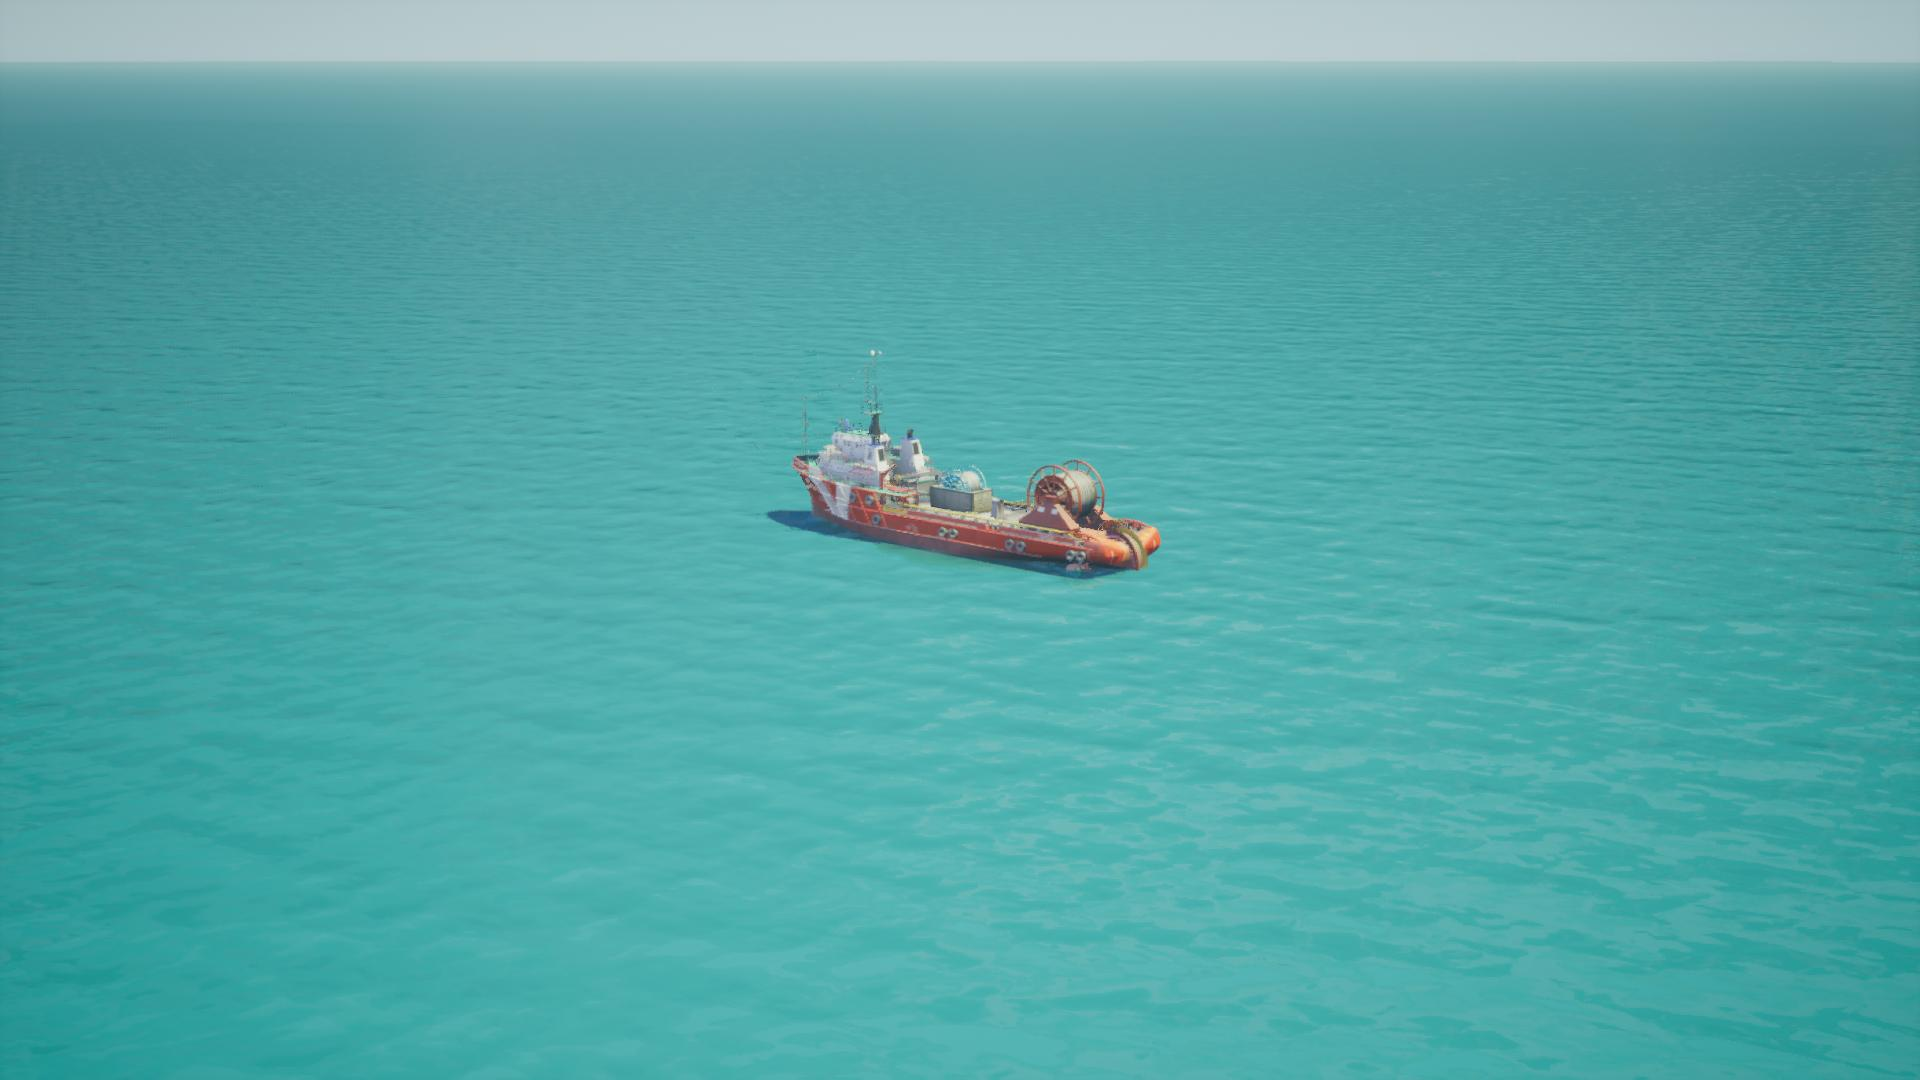Tug Boat: (769, 349, 1159, 585)
